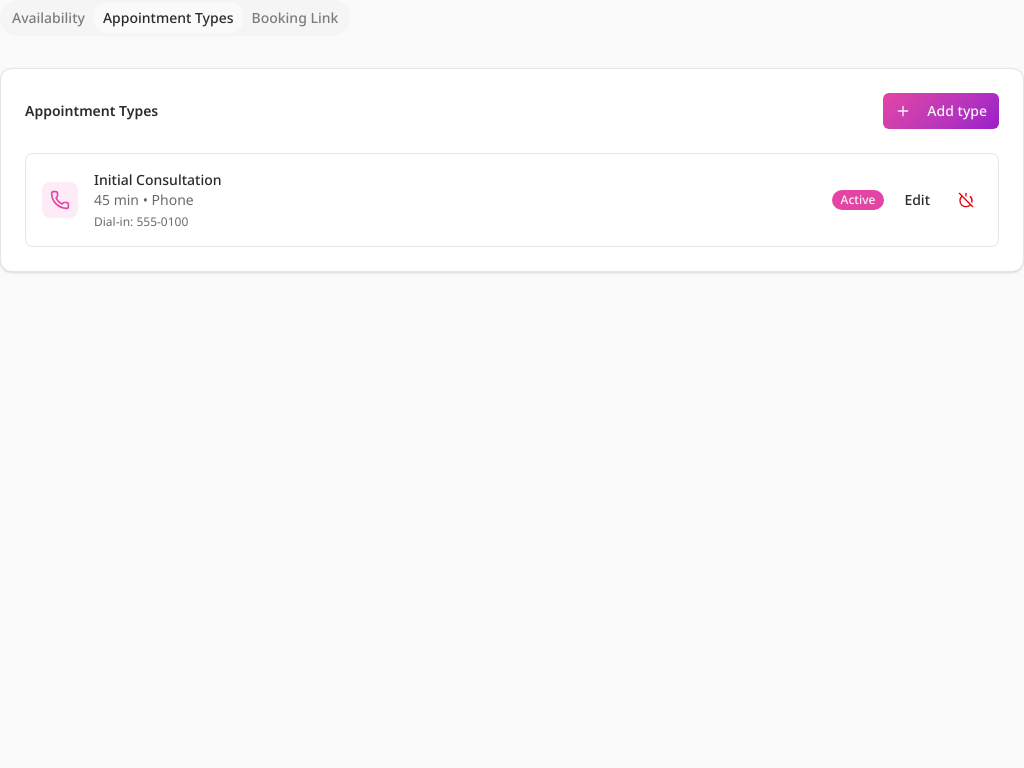
Test: Appointment type client messages and workflows › starts a personal workflow without org workflow access and shows an empty list
The width and height of the screenshot is (1024, 768).
Click the button "Edit": {"x": 917, "y": 200} [892,184,942,216]
(page scrolled)
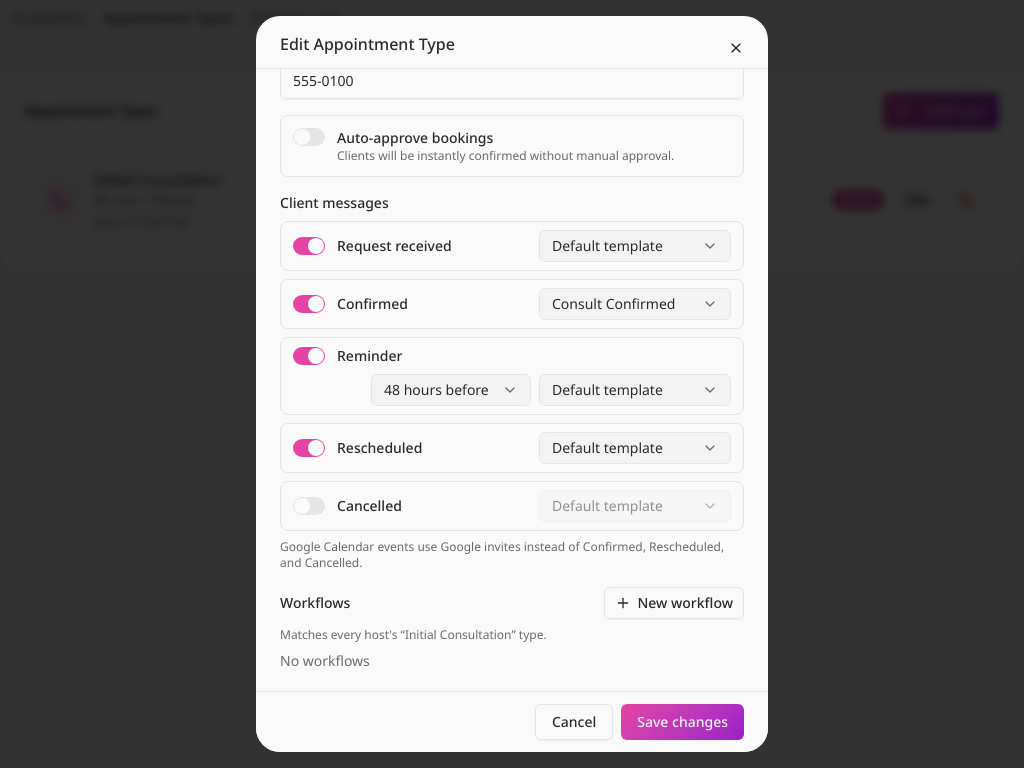
Expected: the text "No workflows" is shown, [280,651,370,670]
